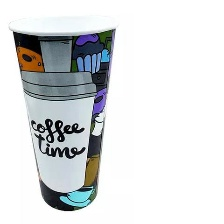paper_cup: (1, 8, 123, 214)
